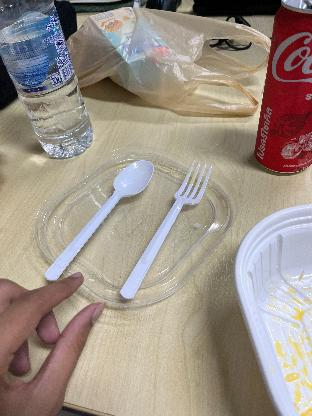Others: (42, 152, 158, 282), (111, 159, 211, 299)
Plastic Bottle: (0, 0, 94, 158)
